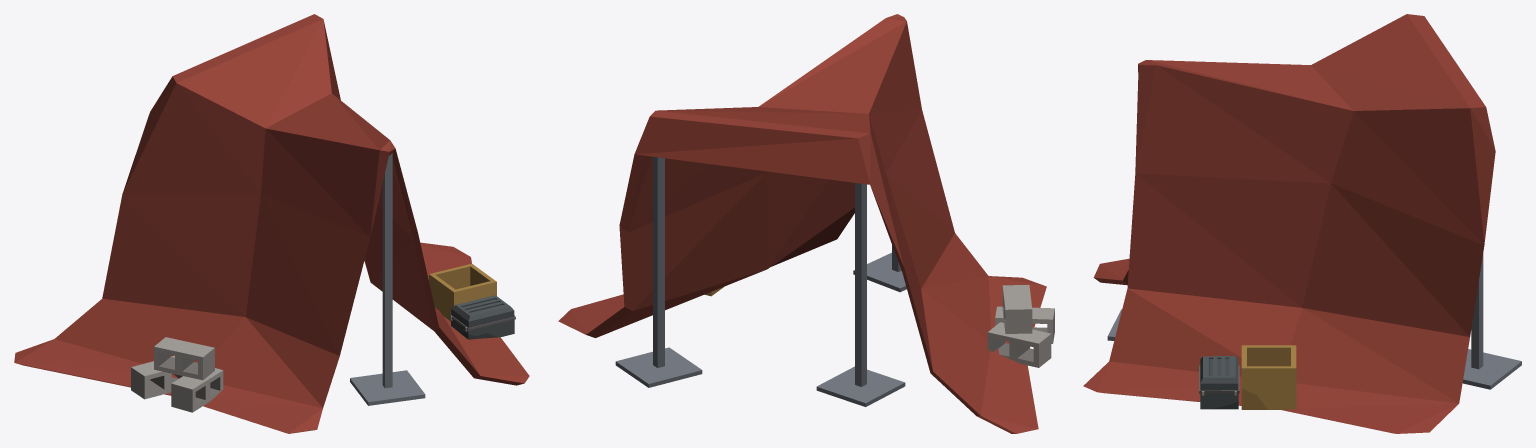
File: AI_Prop_Makeshift_Tent_05.fbx
3 renders of one model, left to right at view 1: azimuth 30°, elevation 25°; view 2: azimuth 150°, elevation 25°; view 3: azimuth 270°, elevation 25°, orthographic. The views are drawn at different scales.
Visible parts, largest first — view 1: AI_Prop_Makeshift_Tent_05; view 2: AI_Prop_Makeshift_Tent_05; view 3: AI_Prop_Makeshift_Tent_05.
Part boxes in pixels (x1=…): AI_Prop_Makeshift_Tent_05: x1=14, y1=14, x2=529, y2=433; AI_Prop_Makeshift_Tent_05: x1=558, y1=14, x2=1054, y2=433; AI_Prop_Makeshift_Tent_05: x1=1083, y1=14, x2=1521, y2=433.
Bounding box in the file's own units: 7.04 × 3.68 × 5.4.
